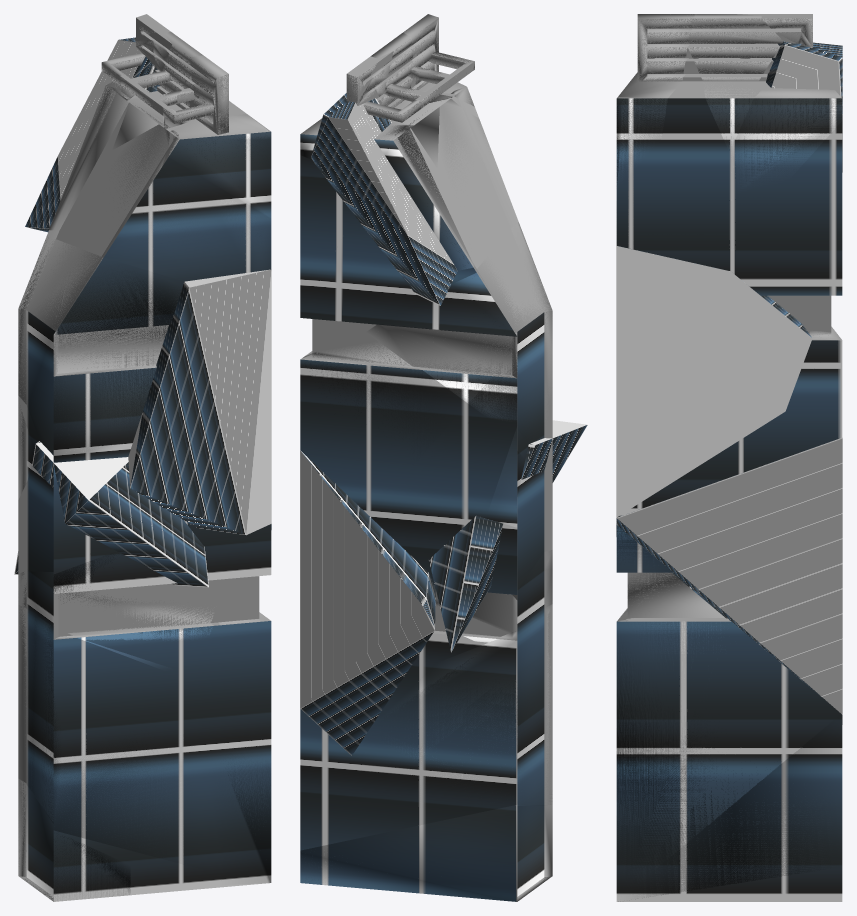
File: tower_high.fbx
The picture shows the model from 3 angles, left to right: view 1: azimuth 30°, elevation 25°; view 2: azimuth 150°, elevation 25°; view 3: azimuth 270°, elevation 25°; orthographic projection. The views are drawn at different scales.
Visible parts, largest first — view 1: mqo_mesh.001, mqo_mesh.001_cell.014, mqo_mesh.001_cell.016, mqo_mesh.001_cell.018, mqo_mesh.001_cell.005, mqo_mesh.001_cell.007, mqo_mesh.001_cell.024, mqo_mesh.001_cell.001, mqo_mesh.001_cell.006, mqo_mesh.001_cell.008, mqo_mesh.001_cell.002, mqo_mesh.001_cell.015 (+5 smaller); view 2: mqo_mesh.001, mqo_mesh.001_cell.012, mqo_mesh.001_cell.016, mqo_mesh.001_cell.006, mqo_mesh.001_cell.018, mqo_mesh.001_cell.002, mqo_mesh.001_cell.007, mqo_mesh.001_cell.019, mqo_mesh.001_cell.015, mqo_mesh.001_cell.008, mqo_mesh.001_cell.005, mqo_mesh.001_cell.004 (+4 smaller); view 3: mqo_mesh.001, mqo_mesh.001_cell.001, mqo_mesh.001_cell.014, mqo_mesh.001_cell.012, mqo_mesh.001_cell.005, mqo_mesh.001_cell.003, mqo_mesh.001_cell.024, mqo_mesh.001_cell.002, mqo_mesh.001_cell.026, mqo_mesh.001_cell.027, mqo_mesh.001_cell, mqo_mesh.001_cell.011.
Boxes of the visible parts, box(x1,y1,x2,y2) form: mqo_mesh.001: box(18, 14, 271, 901); mqo_mesh.001_cell.014: box(128, 269, 271, 535); mqo_mesh.001_cell.016: box(18, 237, 182, 462); mqo_mesh.001_cell.018: box(18, 605, 207, 870); mqo_mesh.001_cell.005: box(104, 104, 271, 281); mqo_mesh.001_cell.007: box(14, 441, 208, 587); mqo_mesh.001_cell.024: box(168, 55, 271, 217); mqo_mesh.001_cell.001: box(206, 612, 271, 884); mqo_mesh.001_cell.006: box(18, 779, 130, 901); mqo_mesh.001_cell.008: box(18, 552, 214, 671); mqo_mesh.001_cell.002: box(25, 37, 159, 232); mqo_mesh.001_cell.015: box(49, 80, 134, 230); mqo_mesh.001: box(300, 19, 552, 884); mqo_mesh.001_cell.012: box(300, 450, 435, 755); mqo_mesh.001_cell.016: box(366, 222, 552, 443); mqo_mesh.001_cell.006: box(300, 805, 552, 901); mqo_mesh.001_cell.018: box(357, 605, 552, 808); mqo_mesh.001_cell.002: box(311, 93, 457, 305); mqo_mesh.001_cell.007: box(429, 420, 587, 652); mqo_mesh.001_cell.019: box(301, 341, 462, 461); mqo_mesh.001_cell.015: box(374, 124, 473, 270); mqo_mesh.001_cell.008: box(435, 550, 552, 642); mqo_mesh.001_cell.005: box(396, 90, 494, 260); mqo_mesh.001_cell.004: box(487, 426, 525, 527); mqo_mesh.001: box(616, 14, 842, 901); mqo_mesh.001_cell.001: box(616, 525, 841, 901); mqo_mesh.001_cell.014: box(616, 201, 812, 517); mqo_mesh.001_cell.012: box(616, 437, 842, 724); mqo_mesh.001_cell.005: box(616, 140, 737, 249); mqo_mesh.001_cell.003: box(730, 88, 842, 193); mqo_mesh.001_cell.024: box(616, 14, 696, 190); mqo_mesh.001_cell.002: box(737, 41, 842, 248); mqo_mesh.001_cell.026: box(688, 47, 779, 151); mqo_mesh.001_cell.027: box(688, 28, 783, 43); mqo_mesh.001_cell: box(690, 14, 770, 28); mqo_mesh.001_cell.011: box(762, 18, 812, 47).
Bounding box in the file's own units: 5010 × 21182 × 5010.
